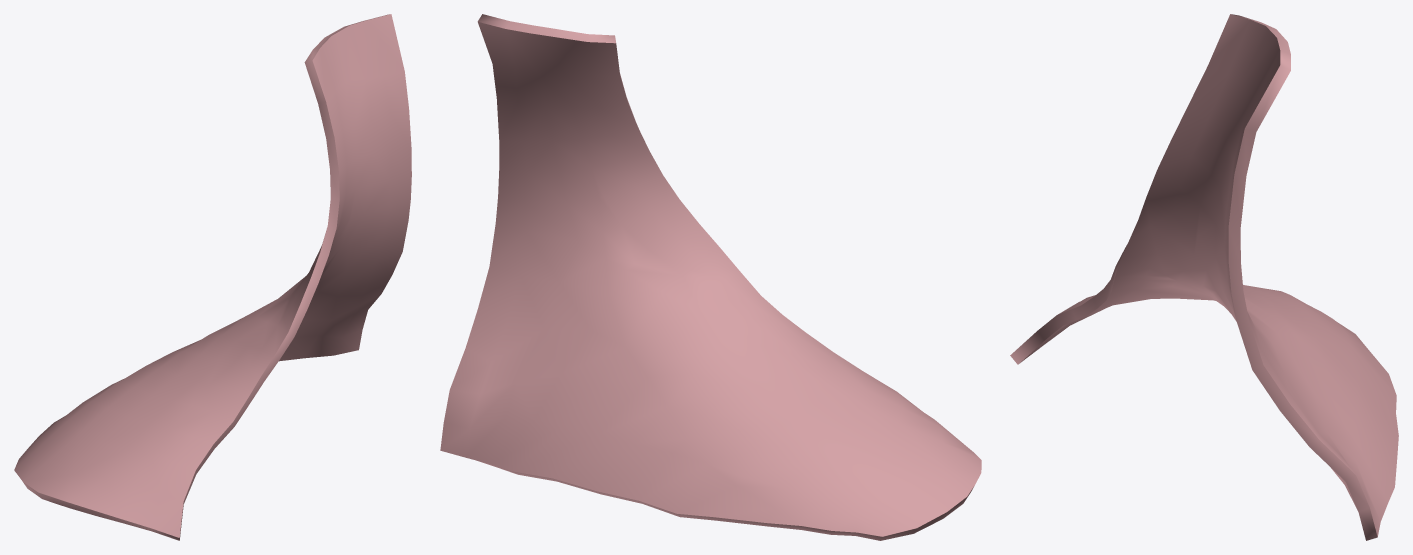
The picture shows the model from 3 angles, left to right: view 1: azimuth 30°, elevation 25°; view 2: azimuth 150°, elevation 25°; view 3: azimuth 270°, elevation 25°; orthographic projection. The views are drawn at different scales.
Parts seen in each view (by area): view 1: ZA_d7eb848b6eddabd7; view 2: ZA_d7eb848b6eddabd7; view 3: ZA_d7eb848b6eddabd7.
Part boxes in pixels (x1,y1,x2,y2): ZA_d7eb848b6eddabd7: (14, 14, 411, 540); ZA_d7eb848b6eddabd7: (440, 14, 981, 540); ZA_d7eb848b6eddabd7: (1010, 14, 1398, 540).
Size of the model in its own units: 0.1463 by 0.1351 by 0.0952.
